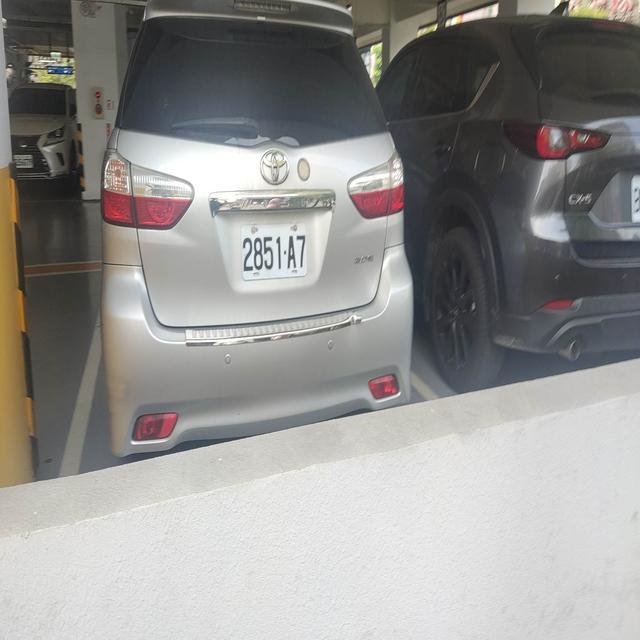license: (237, 225, 310, 276), (10, 150, 36, 173)
